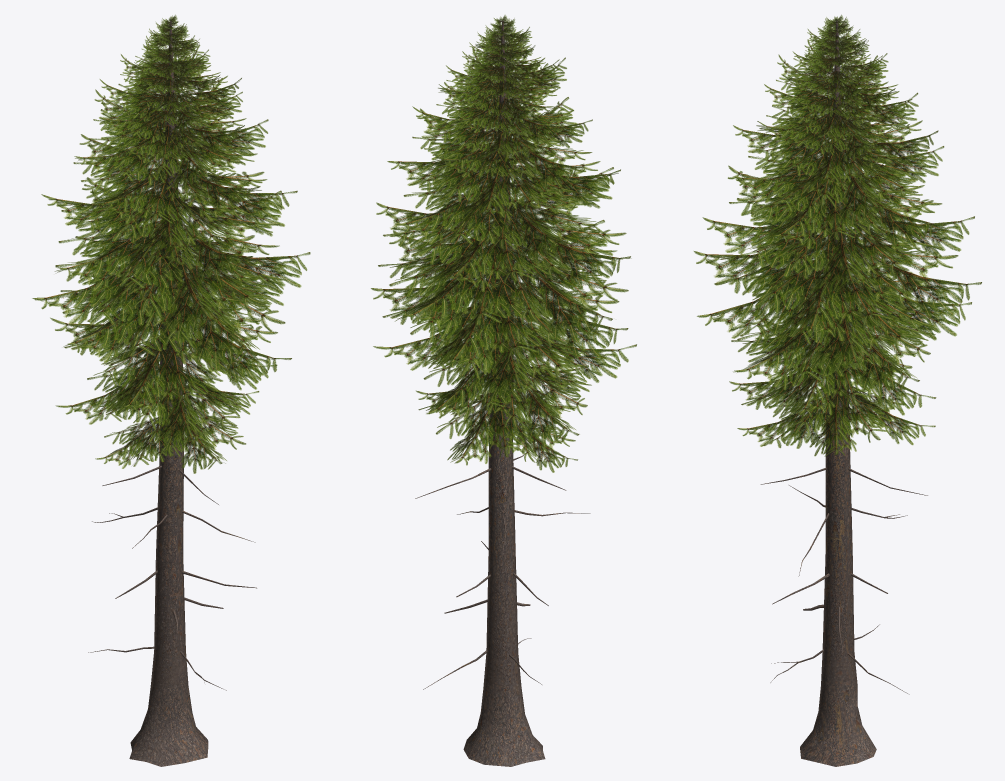
The model's file is fir_douglas_pine.glb.
3 renders of one model, left to right at view 1: azimuth 30°, elevation 25°; view 2: azimuth 150°, elevation 25°; view 3: azimuth 270°, elevation 25°, orthographic.
Parts seen in each view (by area): view 1: Circle.002, Plane.017, Plane.011, Plane.013, Plane.025, Plane.019, Plane.007, Plane.015, Plane.032, Plane.036, Plane.028, Plane.009 (+31 smaller); view 2: Circle.002, Plane.018, Plane.019, Plane.014, Plane.027, Plane.010, Plane.031, Plane.006, Plane.025, Plane.004, Plane.029, Plane.033 (+33 smaller); view 3: Circle.002, Plane.020, Plane.026, Plane.016, Plane.018, Plane.002, Plane.028, Plane.009, Plane.030, Plane.035, Plane.012, Plane.005 (+33 smaller).
Boxes of the visible parts, box(x1,y1,x2,y2) form: Circle.002: box(129, 21, 208, 766); Plane.017: box(121, 242, 267, 340); Plane.011: box(93, 333, 222, 415); Plane.013: box(145, 265, 285, 371); Plane.025: box(54, 220, 184, 291); Plane.019: box(32, 249, 165, 325); Plane.007: box(131, 365, 240, 450); Plane.015: box(62, 285, 193, 362); Plane.032: box(113, 188, 236, 257); Plane.036: box(81, 166, 196, 224); Plane.028: box(147, 224, 279, 282); Plane.009: box(171, 313, 291, 383); Circle.002: box(463, 21, 545, 766); Plane.018: box(389, 245, 536, 333); Plane.019: box(490, 250, 628, 342); Plane.014: box(410, 278, 559, 371); Plane.027: box(412, 213, 550, 291); Plane.010: box(451, 313, 580, 402); Plane.031: box(394, 179, 509, 244); Plane.006: box(487, 368, 587, 447); Plane.025: box(508, 220, 631, 289); Plane.004: box(436, 393, 537, 465); Plane.029: box(478, 198, 597, 263); Plane.033: box(441, 155, 555, 220); Circle.002: box(800, 20, 876, 766); Plane.020: box(752, 246, 904, 340); Plane.026: box(781, 210, 918, 297); Plane.016: box(785, 276, 922, 377); Plane.018: box(844, 242, 981, 318); Plane.002: box(791, 379, 891, 456); Plane.028: box(702, 198, 828, 278); Plane.009: box(733, 317, 856, 387); Plane.030: box(750, 183, 877, 249); Plane.035: box(801, 150, 918, 225); Plane.012: box(814, 307, 930, 396); Plane.005: box(767, 340, 882, 416).
Size of the model in its own units: 12.6 by 33.31 by 12.71.
2 materials, 2 textured.
